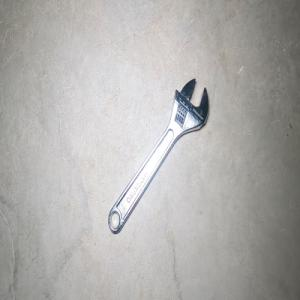Wrench: (107, 78, 208, 233)
